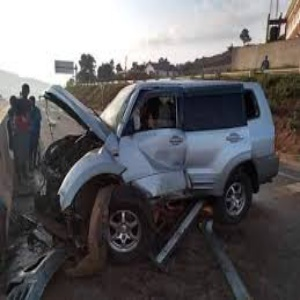door: (139, 133, 229, 198)
